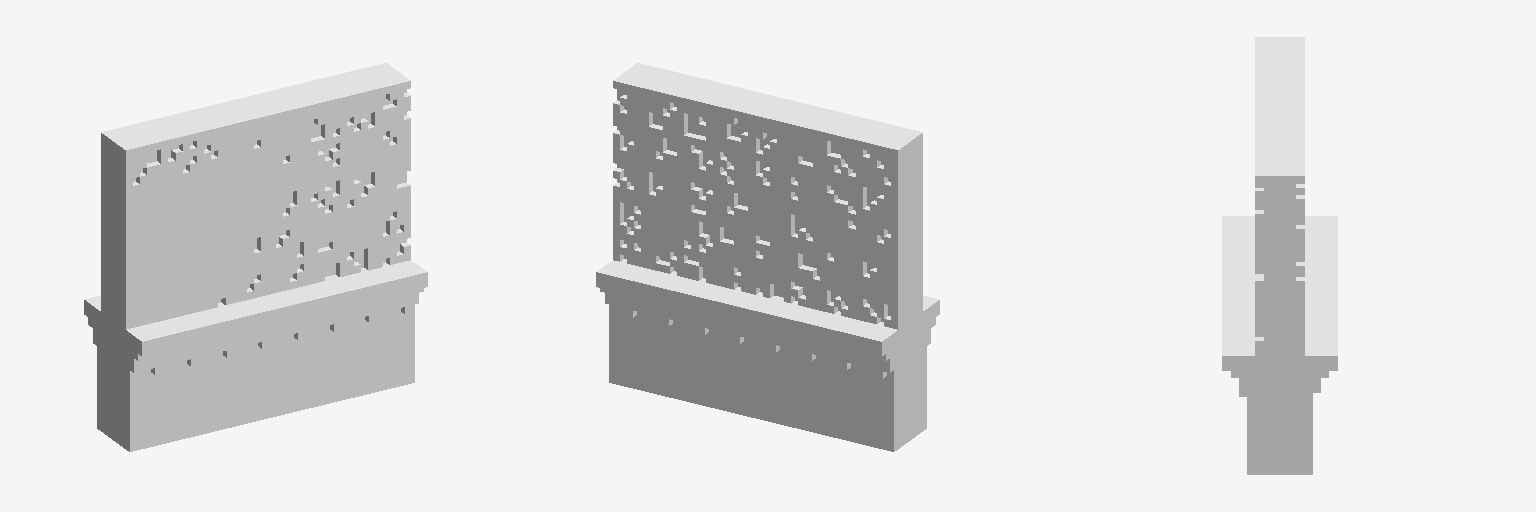
Rendered from Pared.obj.
The picture shows the model from 3 angles: view 1: azimuth 30°, elevation 25°; view 2: azimuth 150°, elevation 25°; view 3: azimuth 270°, elevation 25°; orthographic projection.
Visible parts, largest first — view 1: object 1; view 2: object 1; view 3: object 1.
Boxes of the visible parts, x1=… form: object 1: x1=84, y1=63, x2=427, y2=451; object 1: x1=596, y1=63, x2=939, y2=451; object 1: x1=1222, y1=37, x2=1337, y2=474.
Bounding box in the file's own units: 4 × 4 × 1.4.